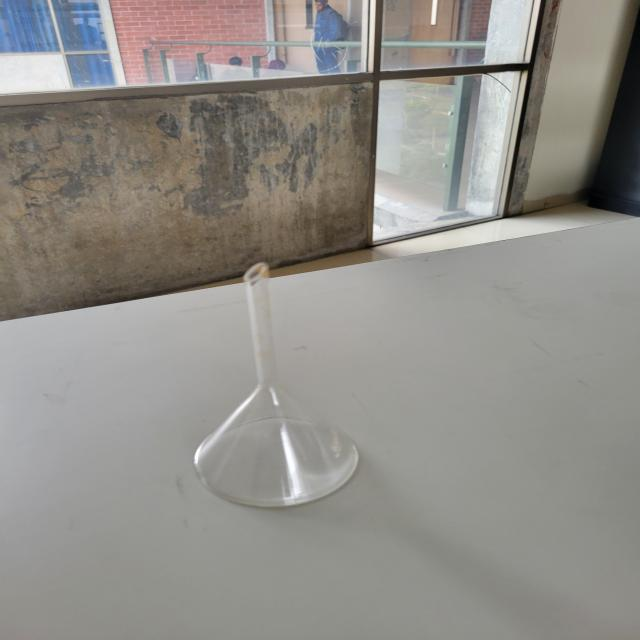Funnel: (140, 211, 397, 554)
